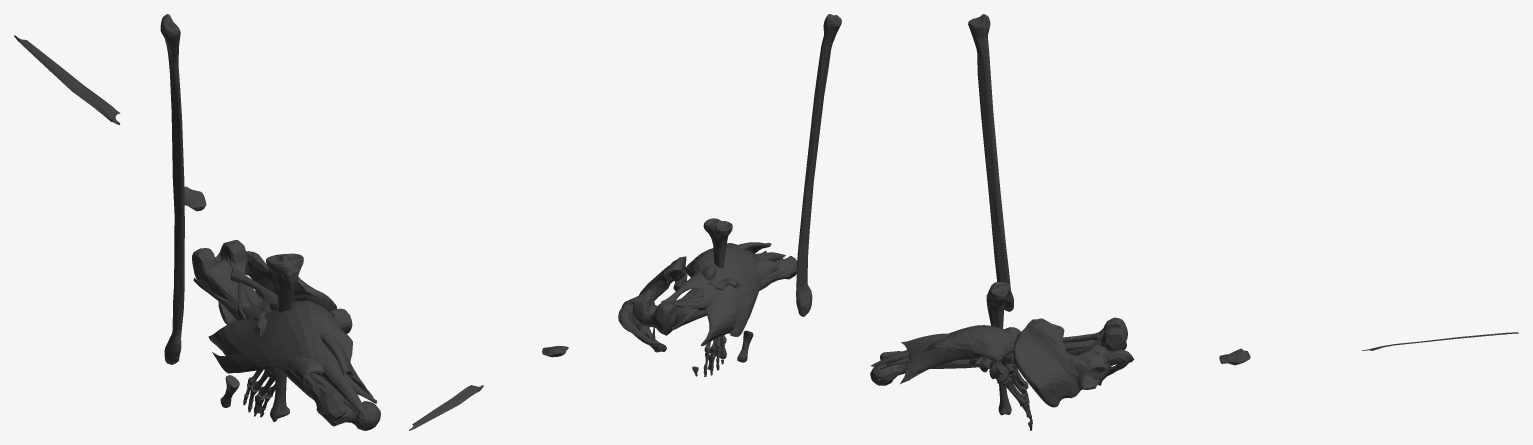
Rendered from sharedassets25.glb.
3 renders of one model, left to right at view 1: azimuth 30°, elevation 25°; view 2: azimuth 150°, elevation 25°; view 3: azimuth 270°, elevation 25°, orthographic. The views are drawn at different scales.
Visible parts, largest first — view 1: 0038_Gluteus maximus, R__1000191, 0073_Femur _thigh_, L_male_000854, 0028_Fibula _leg_, R__000928, 0042_Adductor magnus, R__100021, 0072_Fibula _leg_, L__000922, 0027_Tibia _leg_, R__000925, 0029_Interosseous membrane of the leg _middle, 0040_Semitendinosus, R__1000375, 0071_Tibia _leg_, L__000923, 0041_Semimembranosus, R__1000369, 0035_Ilium, R__001012, 0033_Ischium, R__001010 (+4 smaller); view 2: 0038_Gluteus maximus, R__1000191, 0028_Fibula _leg_, R__000928, 0073_Femur _thigh_, L_male_000854, 0042_Adductor magnus, R__100021, 0035_Ilium, R__001012, 0029_Interosseous membrane of the leg _middle, 0027_Tibia _leg_, R__000925, 0000_Femur _thigh_, R__000930, 0071_Tibia _leg_, L__000923, 0033_Ischium, R__001010; view 3: 0035_Ilium, R__001012, 0072_Fibula _leg_, L__000922, 0038_Gluteus maximus, R__1000191, 0042_Adductor magnus, R__100021, 0077_Ilium, L_male_001003, 0000_Femur _thigh_, R__000930, 0073_Femur _thigh_, L_male_000854, 0033_Ischium, R__001010, 0027_Tibia _leg_, R__000925, 0028_Fibula _leg_, R__000928, 0071_Tibia _leg_, L__000923.
Boxes of the visible parts, x1=… form: 0038_Gluteus maximus, R__1000191: x1=208, y1=300, x2=352, y2=373; 0073_Femur _thigh_, L_male_000854: x1=192, y1=240, x2=380, y2=427; 0028_Fibula _leg_, R__000928: x1=160, y1=14, x2=182, y2=364; 0042_Adductor magnus, R__100021: x1=230, y1=265, x2=376, y2=403; 0072_Fibula _leg_, L__000922: x1=164, y1=14, x2=184, y2=364; 0027_Tibia _leg_, R__000925: x1=266, y1=254, x2=303, y2=421; 0029_Interosseous membrane of the leg _middle: x1=14, y1=35, x2=120, y2=124; 0040_Semitendinosus, R__1000375: x1=239, y1=282, x2=366, y2=416; 0071_Tibia _leg_, L__000923: x1=266, y1=253, x2=302, y2=421; 0041_Semimembranosus, R__1000369: x1=237, y1=282, x2=356, y2=411; 0035_Ilium, R__001012: x1=267, y1=269, x2=336, y2=309; 0033_Ischium, R__001010: x1=245, y1=251, x2=270, y2=285; 0038_Gluteus maximus, R__1000191: x1=685, y1=243, x2=763, y2=346; 0028_Fibula _leg_, R__000928: x1=796, y1=14, x2=841, y2=316; 0073_Femur _thigh_, L_male_000854: x1=634, y1=256, x2=797, y2=330; 0042_Adductor magnus, R__100021: x1=661, y1=242, x2=779, y2=304; 0035_Ilium, R__001012: x1=633, y1=256, x2=685, y2=323; 0029_Interosseous membrane of the leg _middle: x1=409, y1=385, x2=483, y2=430; 0027_Tibia _leg_, R__000925: x1=704, y1=218, x2=732, y2=358; 0000_Femur _thigh_, R__000930: x1=632, y1=272, x2=796, y2=335; 0071_Tibia _leg_, L__000923: x1=703, y1=218, x2=732, y2=358; 0033_Ischium, R__001010: x1=618, y1=296, x2=649, y2=342; 0035_Ilium, R__001012: x1=1013, y1=318, x2=1088, y2=407; 0072_Fibula _leg_, L__000922: x1=968, y1=14, x2=1013, y2=311; 0038_Gluteus maximus, R__1000191: x1=923, y1=325, x2=1014, y2=360; 0042_Adductor magnus, R__100021: x1=900, y1=333, x2=1097, y2=384; 0077_Ilium, L_male_001003: x1=1013, y1=320, x2=1087, y2=407; 0000_Femur _thigh_, R__000930: x1=871, y1=323, x2=1127, y2=385; 0073_Femur _thigh_, L_male_000854: x1=870, y1=317, x2=1126, y2=384; 0033_Ischium, R__001010: x1=1083, y1=344, x2=1133, y2=371; 0027_Tibia _leg_, R__000925: x1=986, y1=281, x2=1011, y2=414; 0028_Fibula _leg_, R__000928: x1=973, y1=14, x2=1013, y2=311; 0071_Tibia _leg_, L__000923: x1=986, y1=281, x2=1010, y2=415.
Bounding box in the file's own units: 0.1862 × 0.3865 × 0.624.
1 material, 1 textured.
